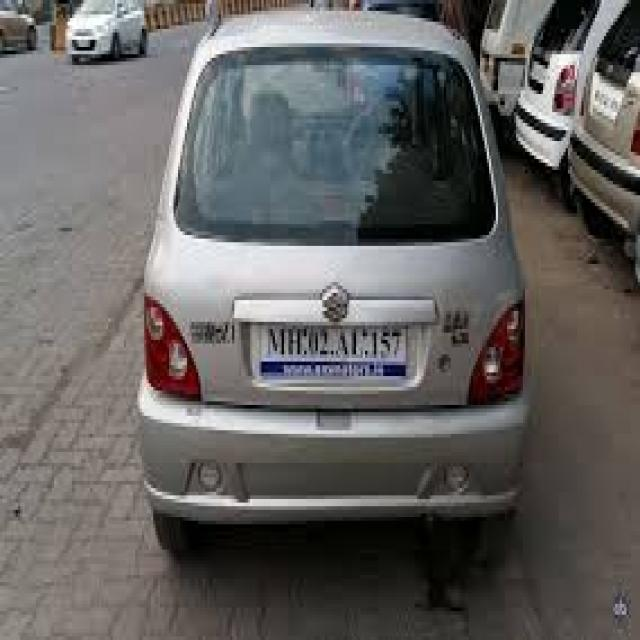Number-Plate: (259, 319, 406, 378)
